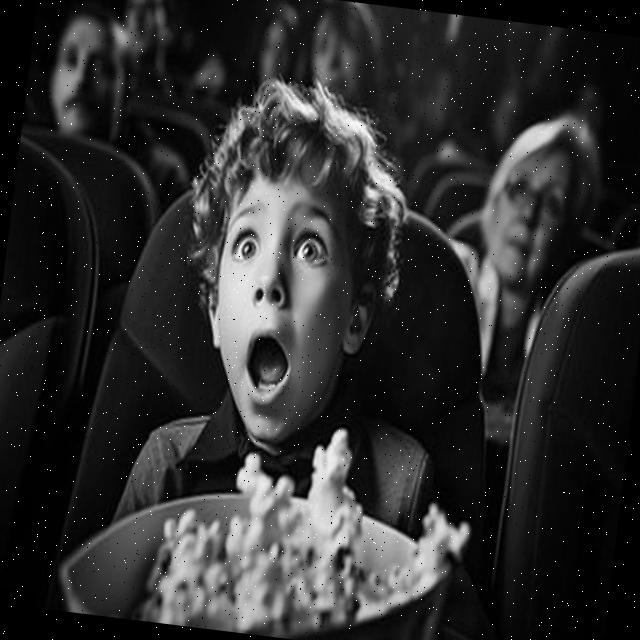Fear: (204, 176, 353, 452)
